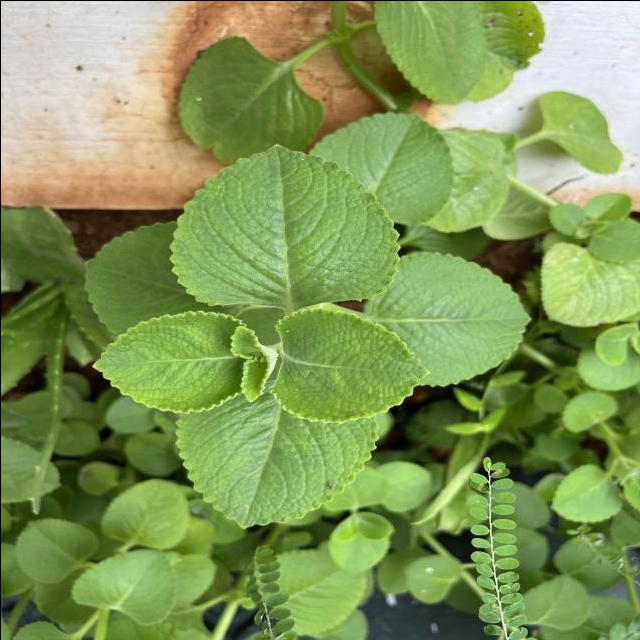Plectranthus barbatus: (167, 140, 403, 308), (173, 412, 379, 530), (176, 34, 327, 163), (268, 306, 430, 423), (399, 248, 531, 388), (90, 308, 258, 414), (308, 110, 452, 224), (70, 546, 178, 626), (98, 477, 190, 549), (12, 516, 102, 583), (547, 462, 623, 524)
